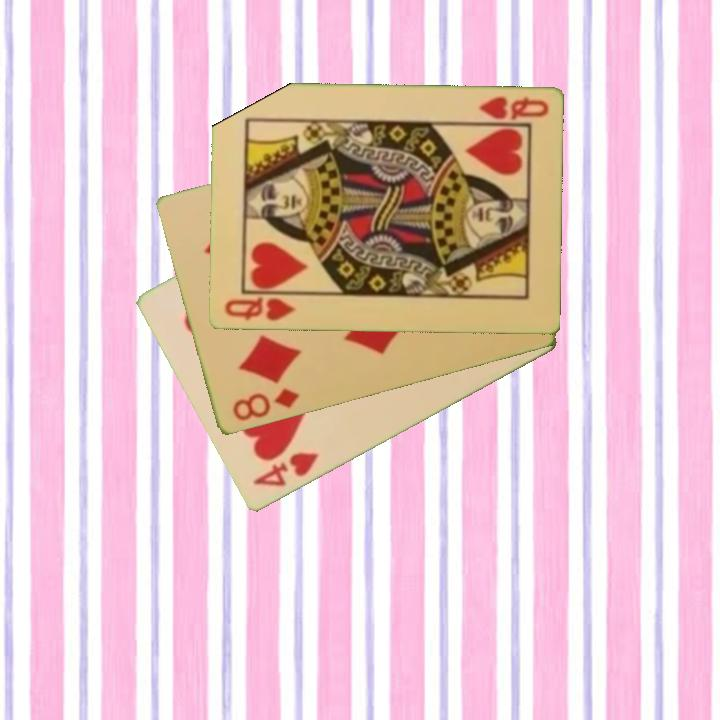4h: (249, 449, 322, 491)
8d: (228, 385, 303, 424)
Qh: (475, 93, 551, 124), (220, 294, 298, 324)
